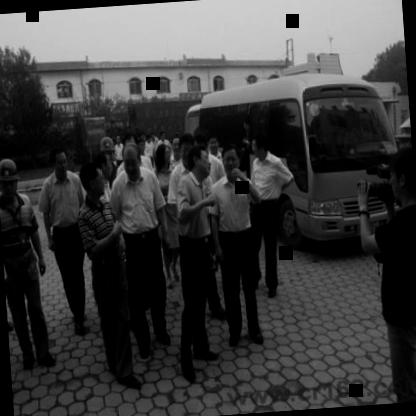head: (386, 148, 416, 215), (78, 159, 107, 202), (121, 142, 144, 182), (220, 140, 242, 180), (184, 145, 210, 178), (250, 131, 272, 164), (48, 147, 70, 179), (177, 134, 195, 168), (155, 140, 173, 172), (97, 151, 114, 178), (206, 132, 222, 156)
helmet: (0, 154, 24, 201), (97, 135, 116, 165)
